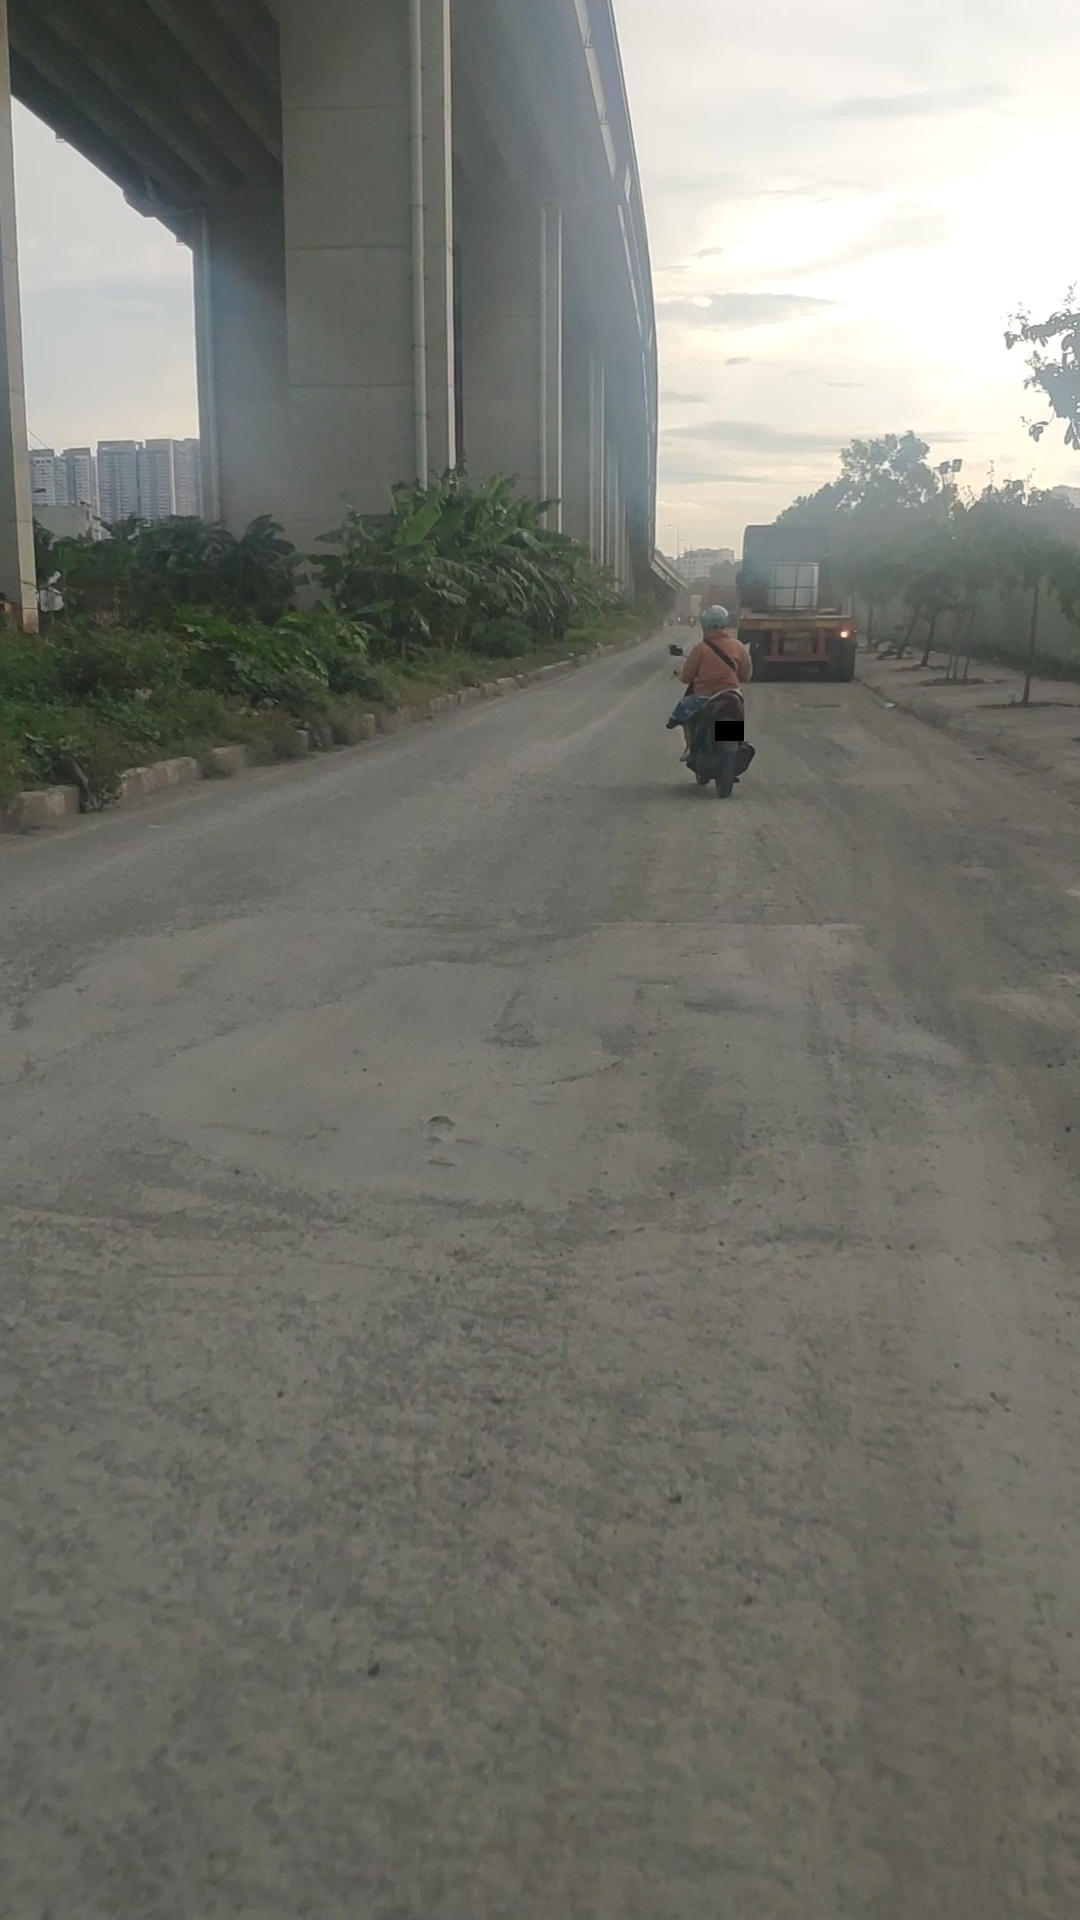hole: (123, 965, 719, 1211)
